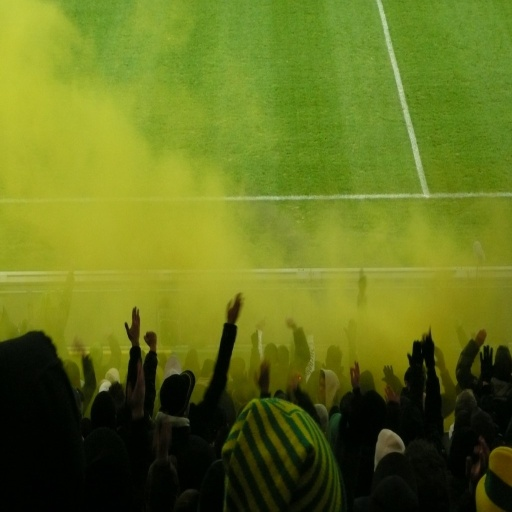hand: (479, 343, 500, 382), (225, 292, 245, 326), (419, 327, 436, 367), (255, 357, 272, 394), (124, 307, 140, 343), (406, 340, 424, 370), (378, 364, 396, 386), (141, 327, 160, 347), (433, 348, 446, 375), (384, 383, 399, 405), (350, 357, 359, 391), (477, 327, 485, 348), (285, 316, 296, 328)
